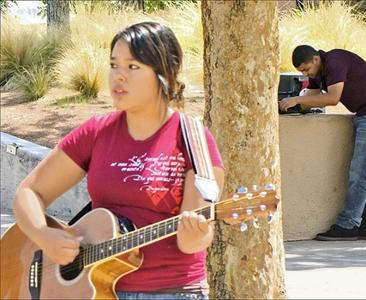person: (13, 23, 226, 300)
